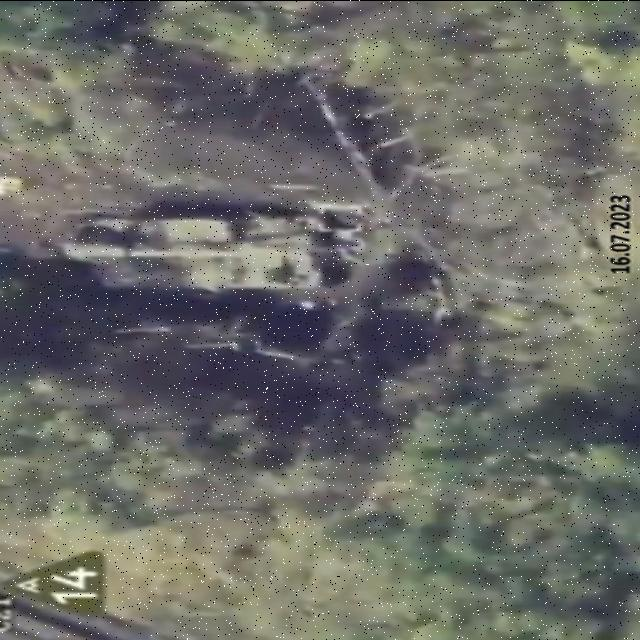ART: (49, 198, 338, 312)
